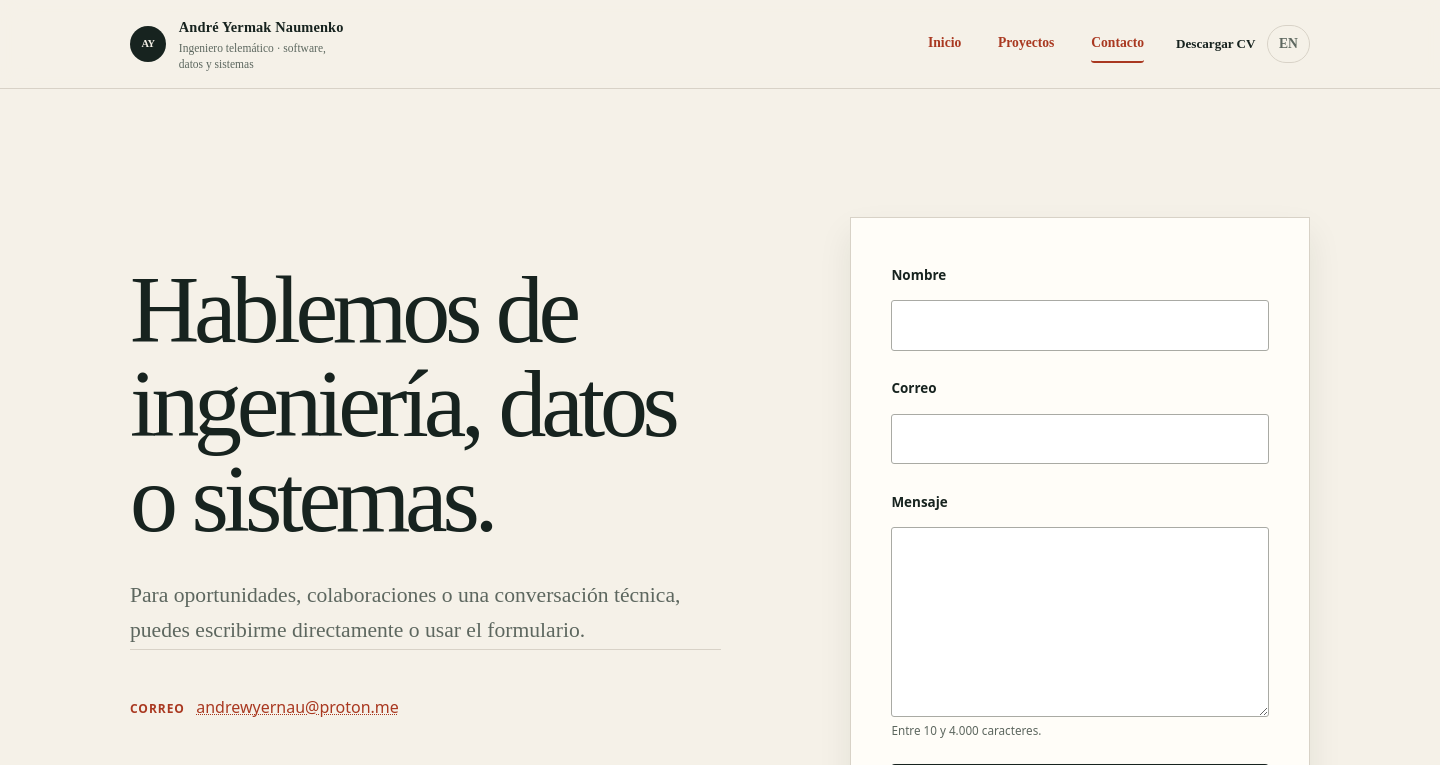
it: portfolio application › submits contact data including the honeypot and shows success
The image size is (1440, 765).
Type "Ada Lovelace" into the field labelled "Nombre" at (1080, 325), box [891, 300, 1269, 351]
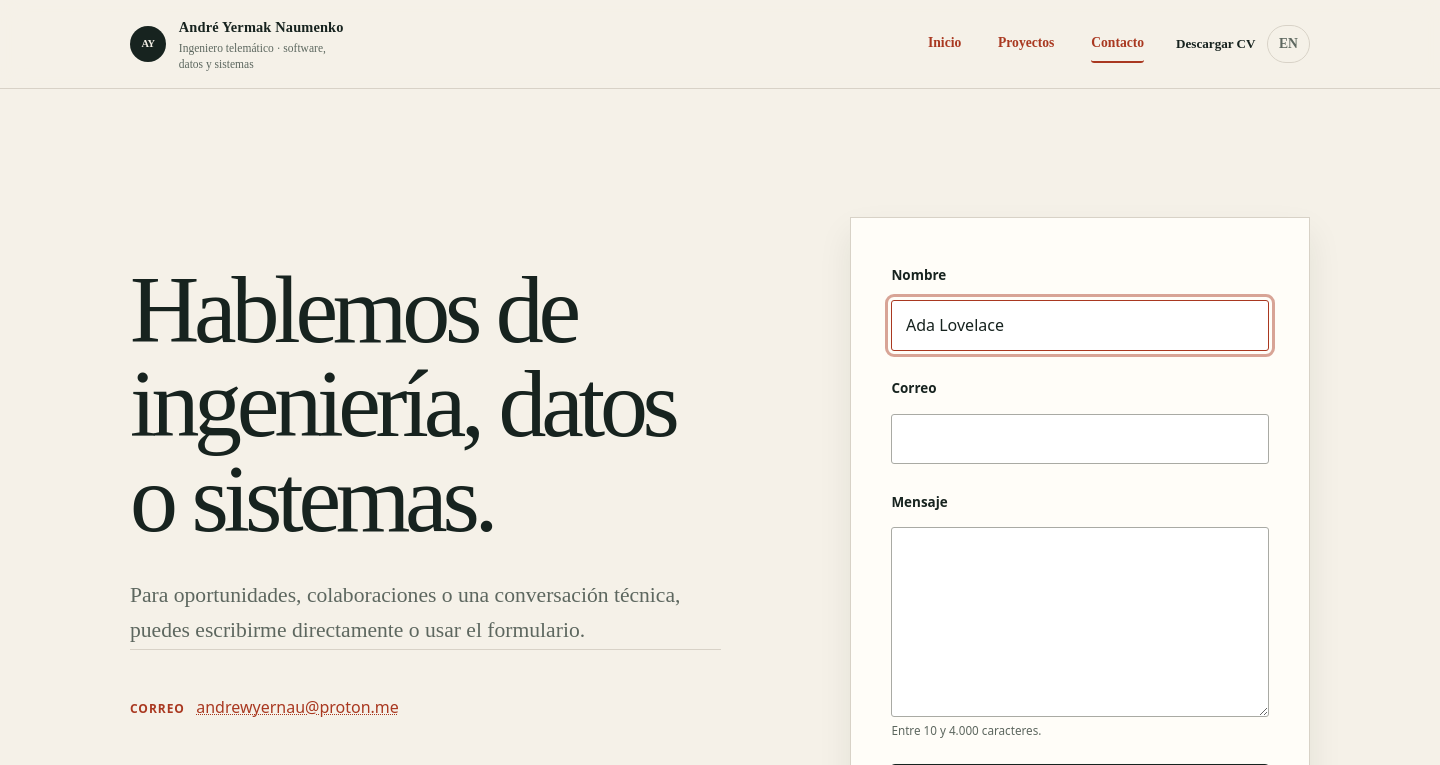
Type "ada@example.test" into the field labelled "Correo" at (1080, 439), box [891, 414, 1269, 464]
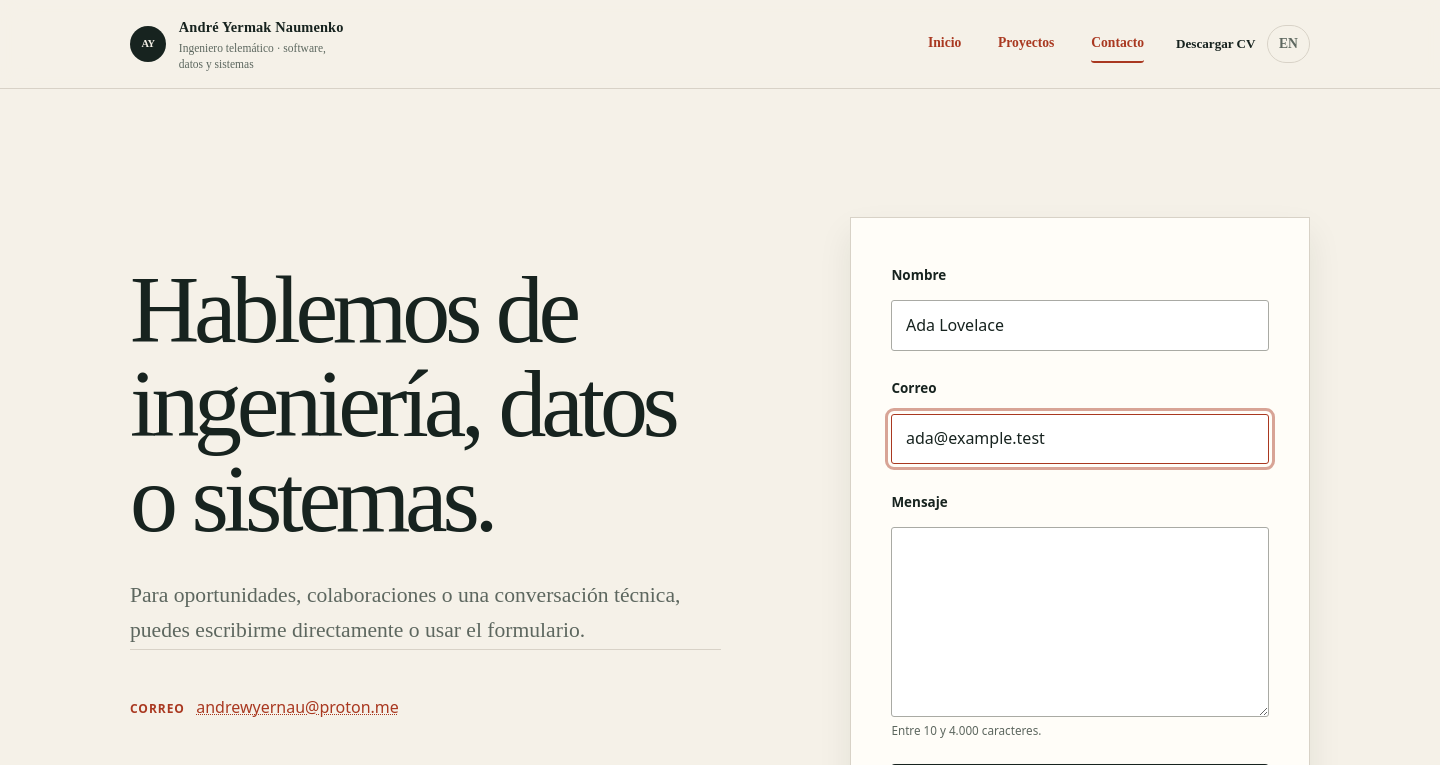
Type "Me gustaría comentar un proyecto." into the text box labelled "Mensaje" at (1080, 622), box [891, 527, 1269, 717]
(page scrolled)
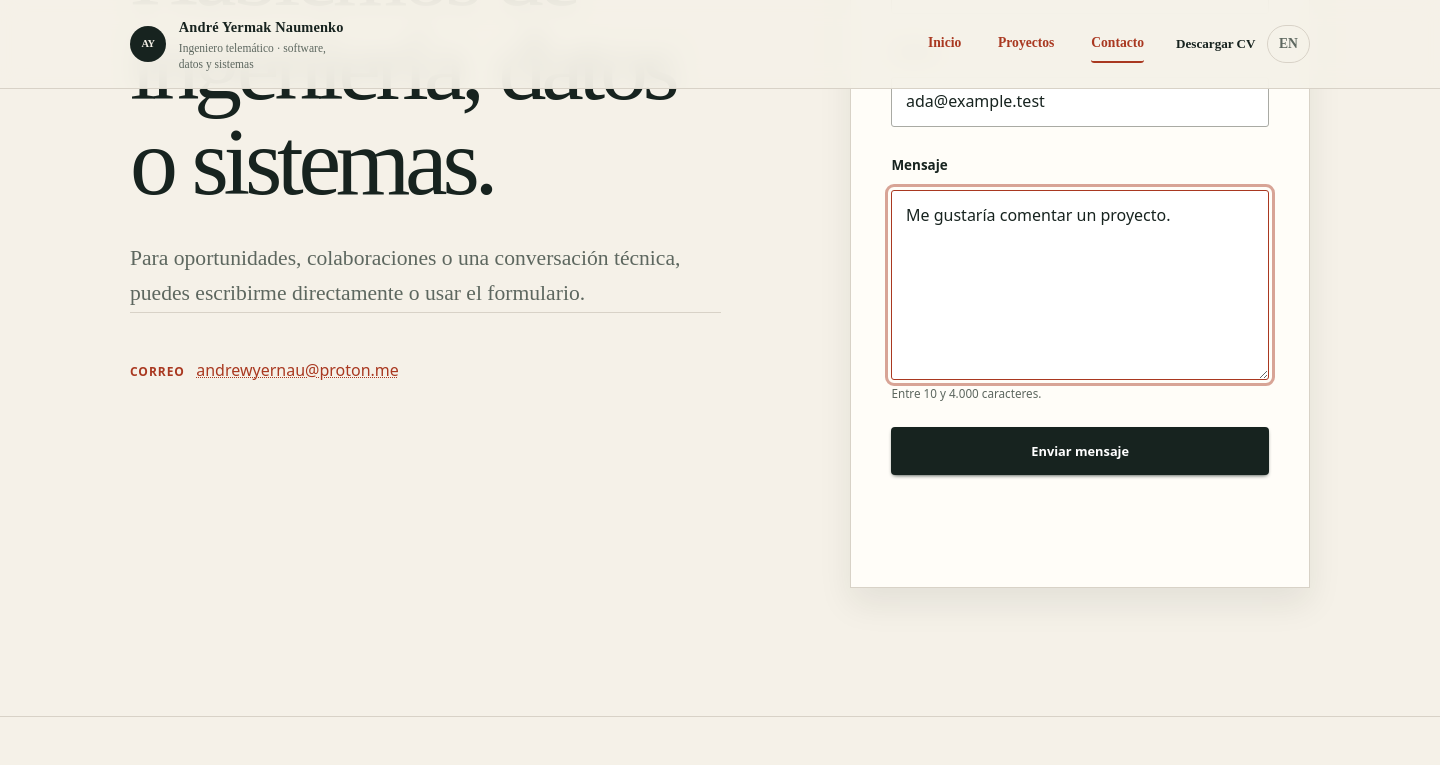
Click the button "Enviar mensaje" at (1080, 452), box [891, 428, 1269, 476]
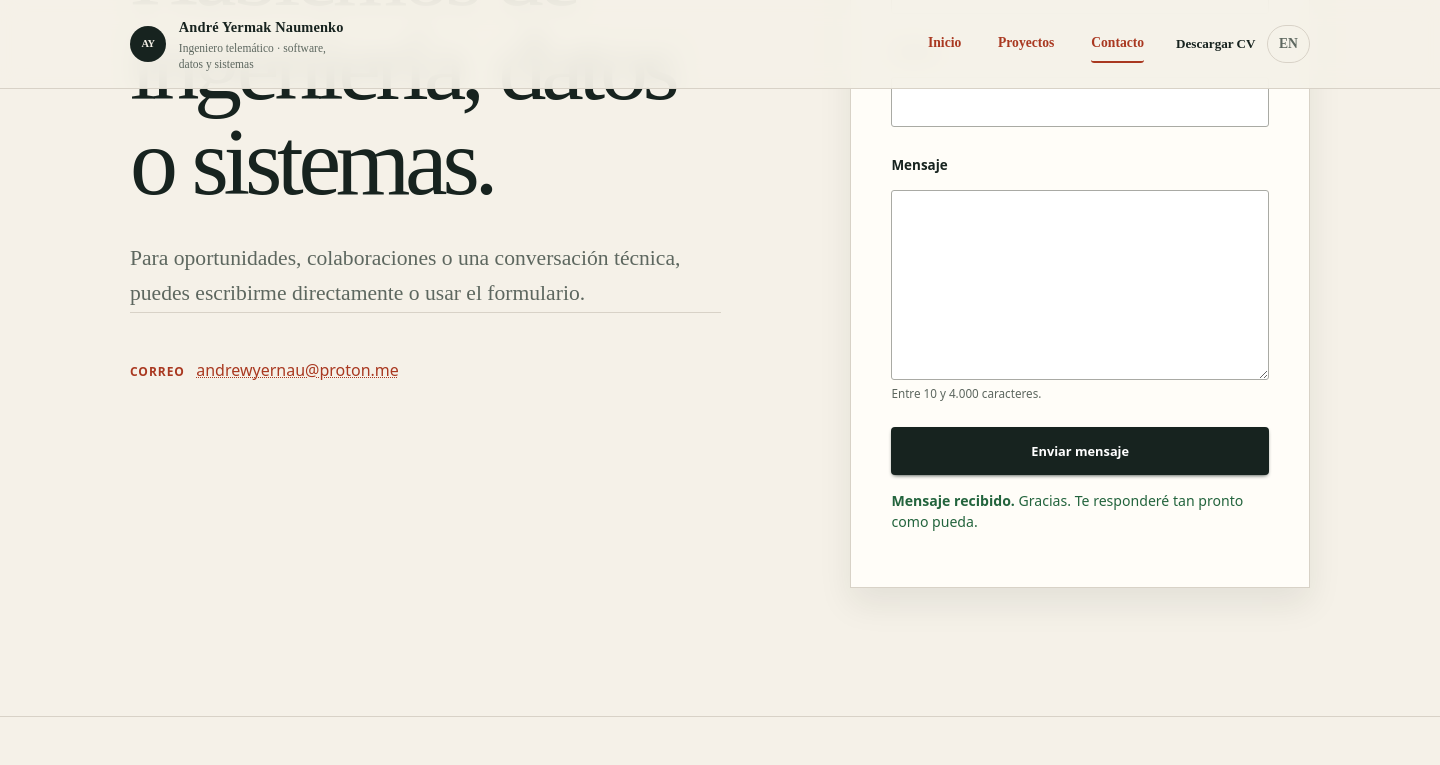
Result: the text "Mensaje recibido." is shown at [891, 492, 1015, 510]
